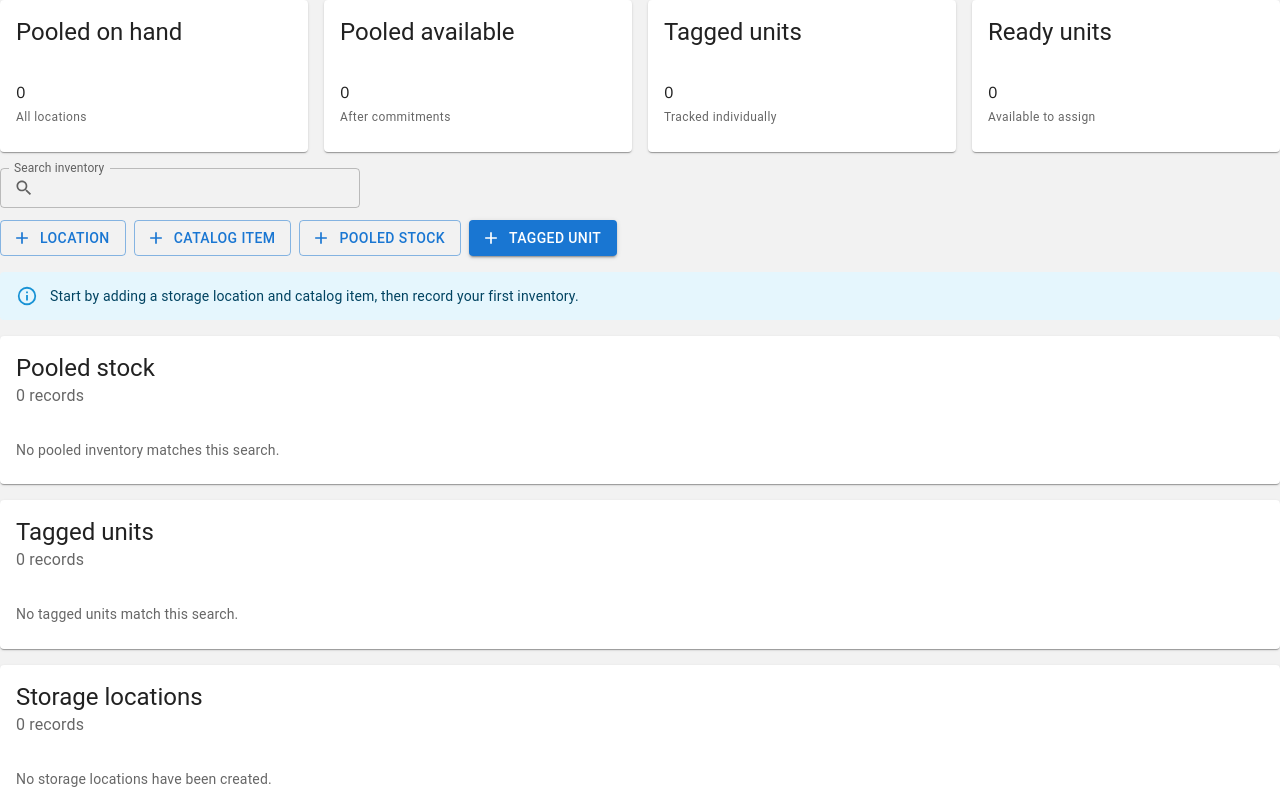
Scenario: GearInventoryManager › renders and focuses a returned dialog error without closing the dialog
Click the button "Location". click: x=63, y=238
box: [0, 220, 126, 256]
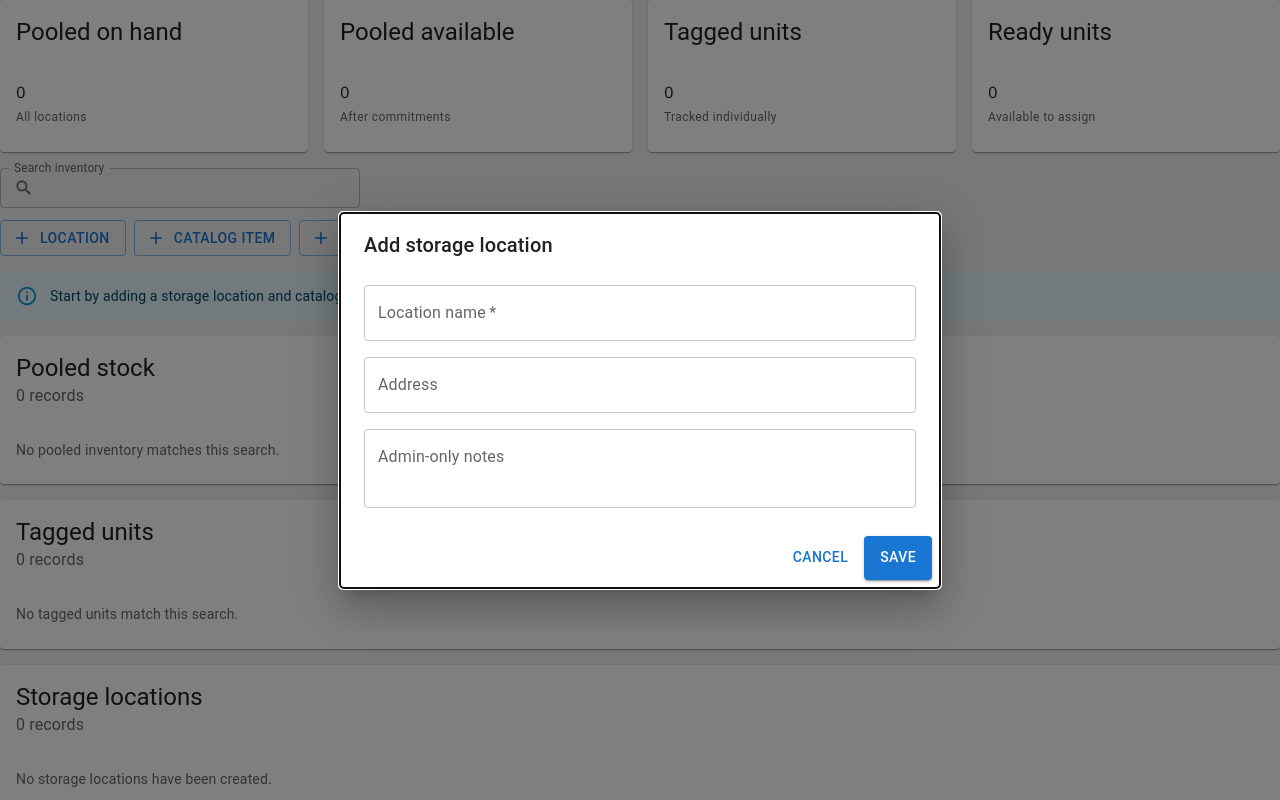
Type "Locker" into the field labelled "Location name". click: x=640, y=312
box: [364, 284, 916, 340]
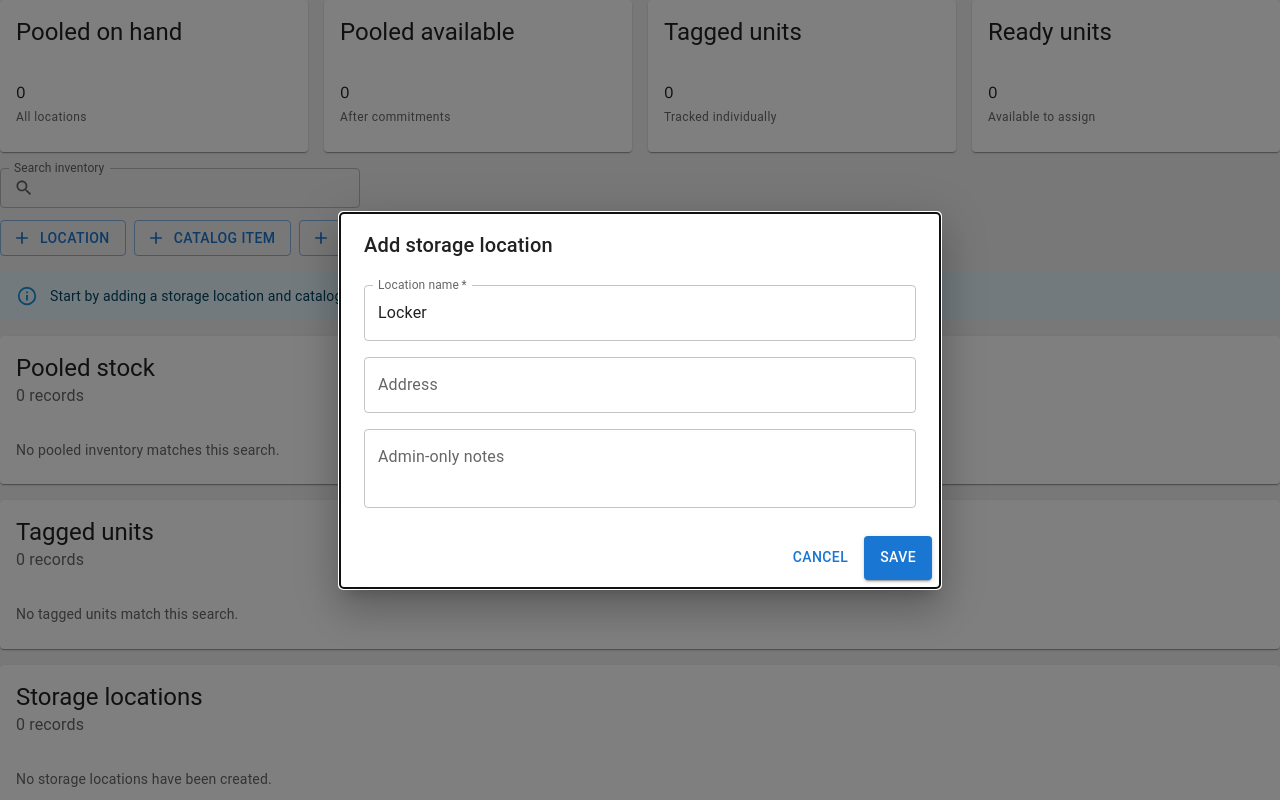
Click the button "Save". click: x=898, y=558
box: [864, 536, 932, 580]
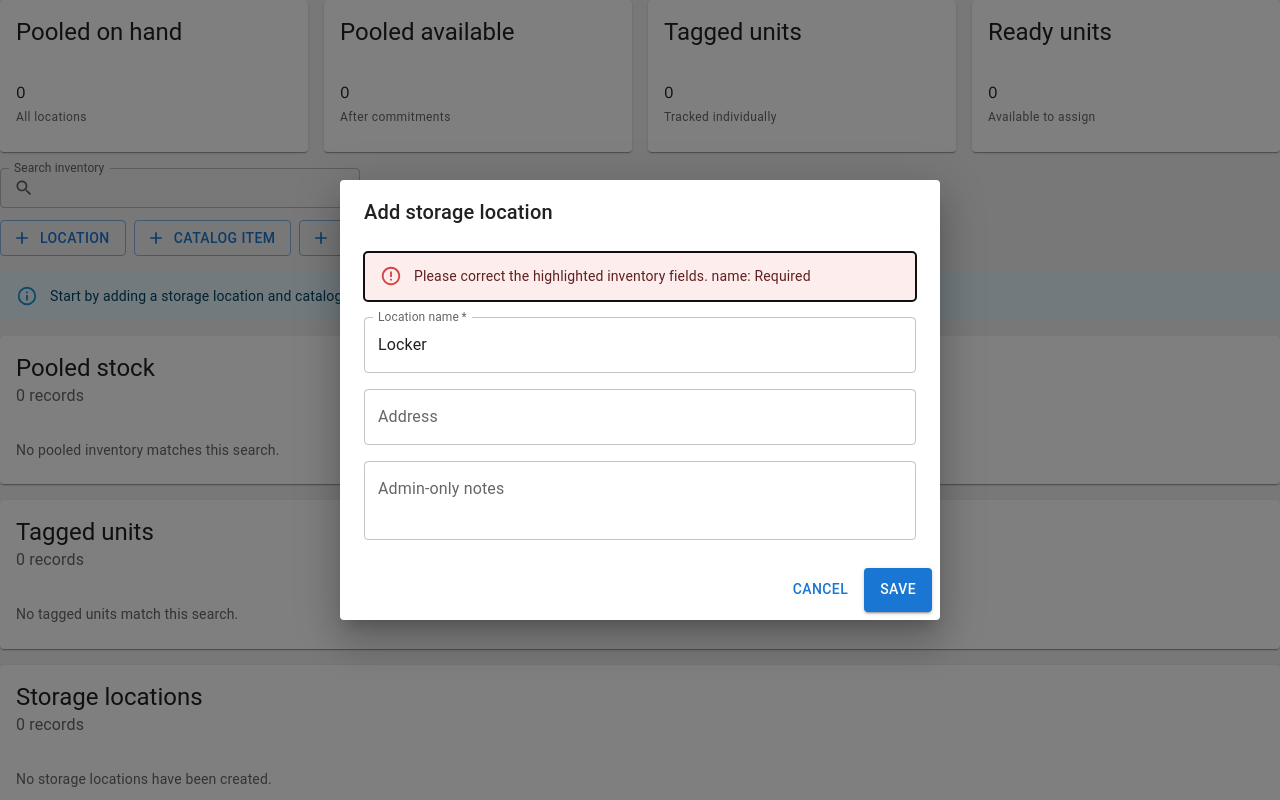
Expected: the dialog "Add storage location" is shown, [340, 180, 940, 620]
Expected: the message shows "name: Required", [414, 268, 811, 284]
